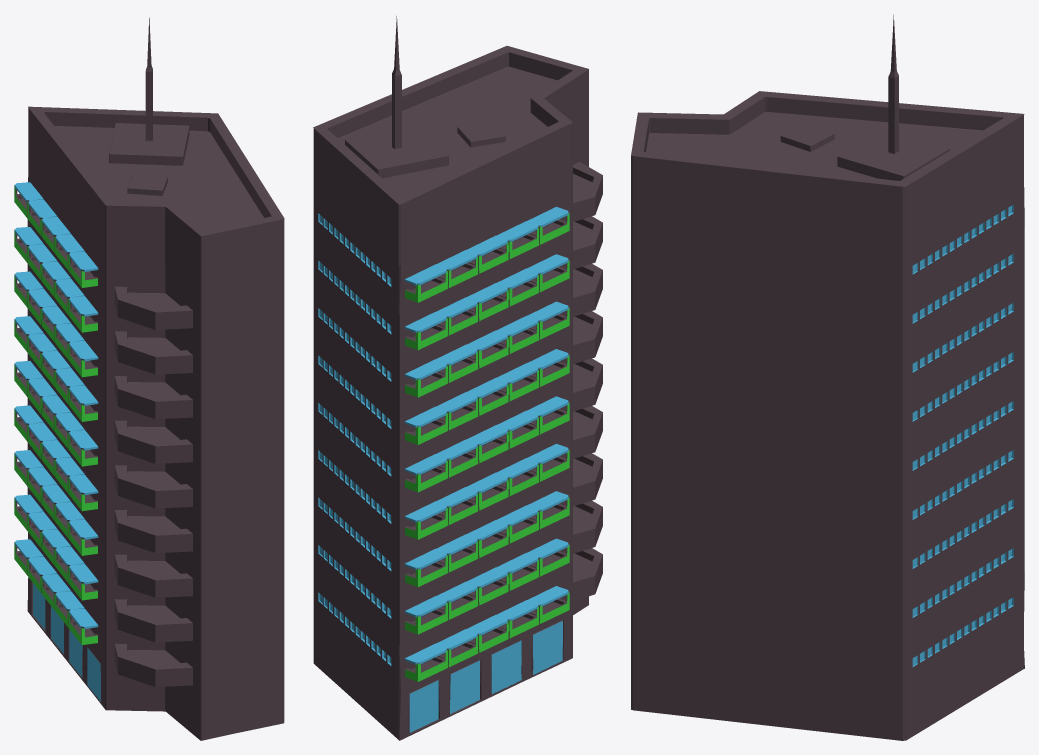
File: buildings12.fbx
3 views of the same model, side by side, from view 1: azimuth 30°, elevation 25°; view 2: azimuth 150°, elevation 25°; view 3: azimuth 270°, elevation 25° (orthographic). The views are drawn at different scales.
Parts seen in each view (by area): view 1: 8; view 2: 8; view 3: 8.
Part boxes in pixels (box(x1,y1,x2,y2)): 8: box(14, 17, 284, 740); 8: box(313, 16, 602, 740); 8: box(631, 14, 1024, 740).
Bounding box in the file's own units: 2409 × 7623 × 3956.
